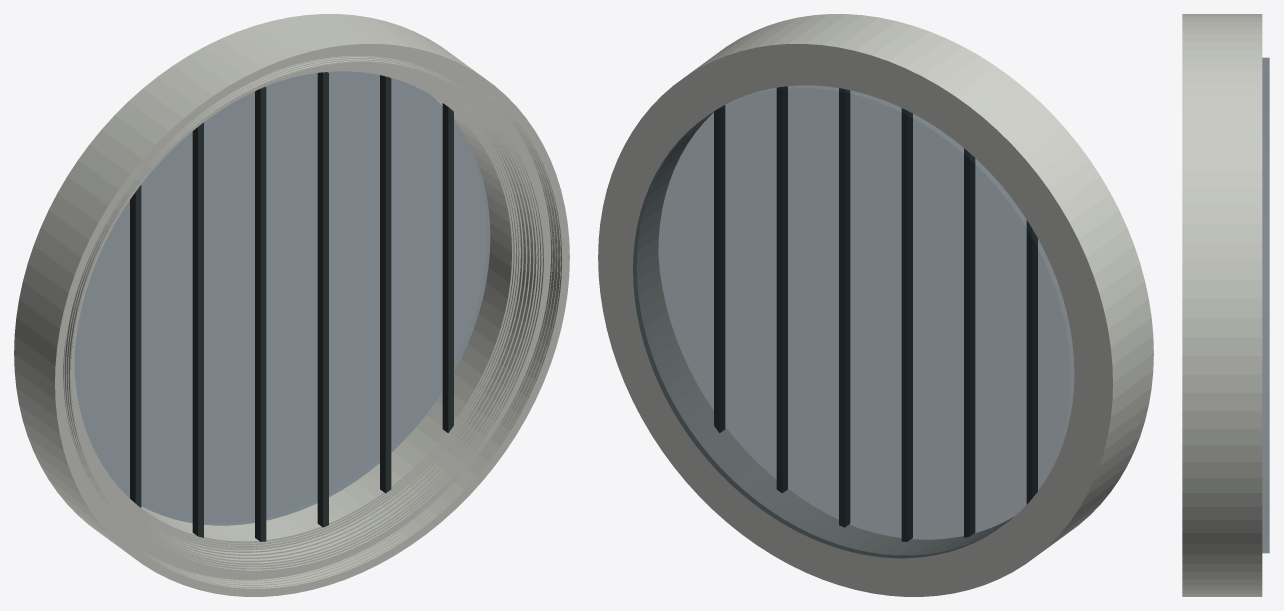
File: republicano_circle_con_reja.glb
3 renders of one model, left to right at view 1: azimuth 30°, elevation 25°; view 2: azimuth 150°, elevation 25°; view 3: azimuth 270°, elevation 25°, orthographic.
Parts seen in each view (by area): view 1: window_glass#0001, window_grille#0001, window_profile#0028, window_reveal#0001, window_profile#0001, window_profile#0025, window_profile#0027, window_profile#0026, window_profile#0012, window_profile#0009, window_profile#0008, window_profile#0011 (+19 smaller); view 2: window_glass#0001, window_reveal#0001, window_grille#0001, window_profile#0028, window_profile#0001; view 3: window_profile#0028, window_reveal#0001, window_glass#0001.
Boxes of the visible parts, left/top/right/bottom form: window_glass#0001: left=74, top=71, right=490, bottom=525; window_grille#0001: left=130, top=72, right=453, bottom=541; window_profile#0028: left=29, top=25, right=569, bottom=596; window_reveal#0001: left=14, top=14, right=507, bottom=537; window_profile#0001: left=74, top=70, right=513, bottom=543; window_profile#0025: left=60, top=50, right=563, bottom=590; window_profile#0027: left=57, top=46, right=567, bottom=594; window_profile#0026: left=58, top=48, right=565, bottom=592; window_profile#0012: left=70, top=62, right=545, bottom=572; window_profile#0009: left=73, top=66, right=537, bottom=564; window_profile#0008: left=78, top=66, right=534, bottom=562; window_profile#0011: left=72, top=64, right=542, bottom=569; window_glass#0001: left=633, top=85, right=1074, bottom=558; window_reveal#0001: left=598, top=31, right=1129, bottom=596; window_grille#0001: left=714, top=86, right=1037, bottom=541; window_profile#0028: left=702, top=14, right=1153, bottom=543; window_profile#0001: left=652, top=112, right=1012, bottom=544; window_profile#0028: left=1182, top=14, right=1233, bottom=596; window_reveal#0001: left=1229, top=14, right=1262, bottom=596; window_glass#0001: left=1262, top=57, right=1269, bottom=553.
Bounding box in the file's own units: 1.6 × 1.6 × 0.24.
